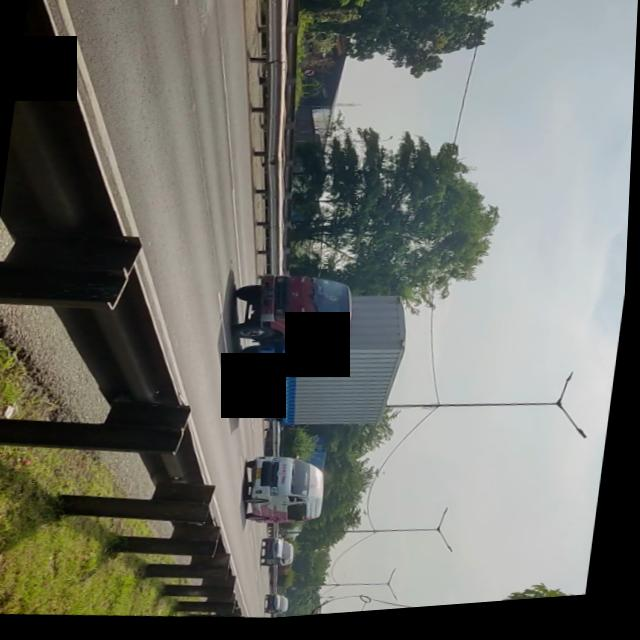Golongan I: (240, 454, 336, 538)
Golongan II: (220, 261, 403, 442)
